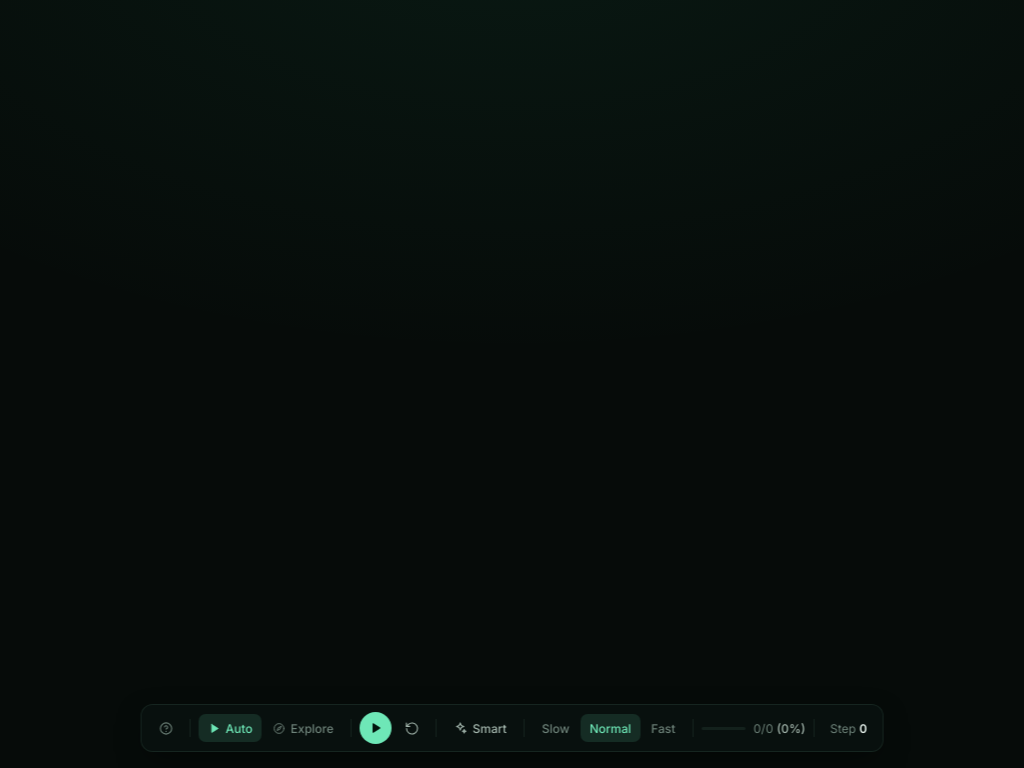
SimulationControls › shows guide popover when help button is clicked
Click the button named "Show guide".
click(166, 728)  # box [150,712,182,744]
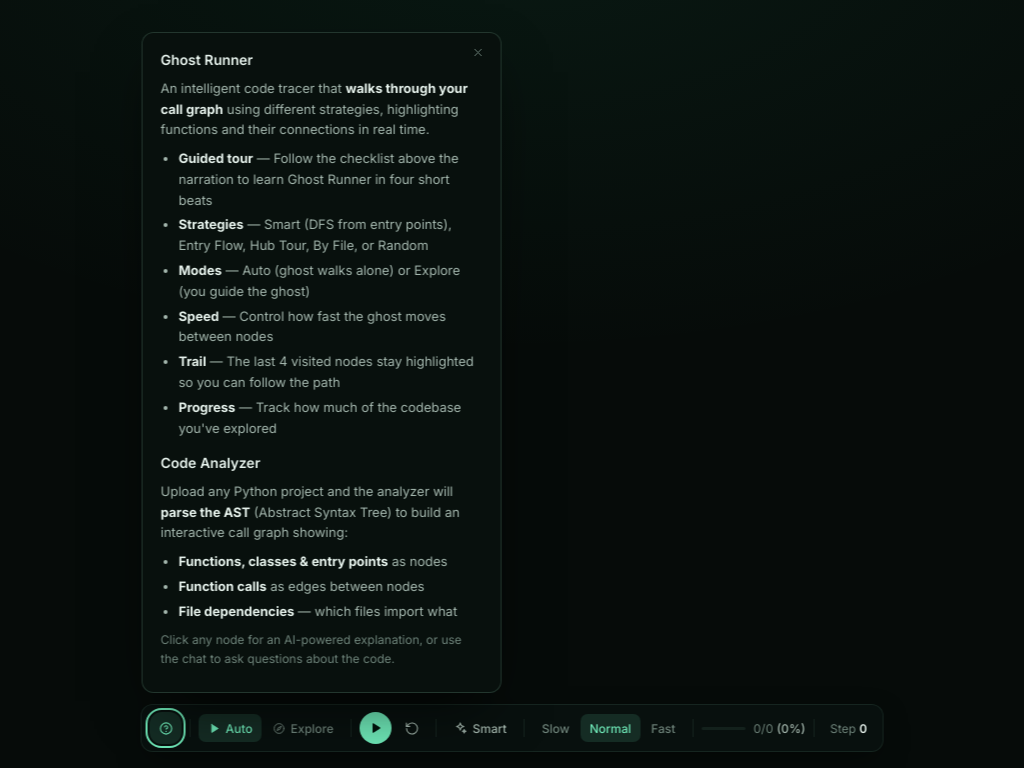
Expected: the heading "Ghost Runner" is shown, [160,51,253,68]
Expected: the heading "Code Analyzer" is shown, [160,454,260,472]
